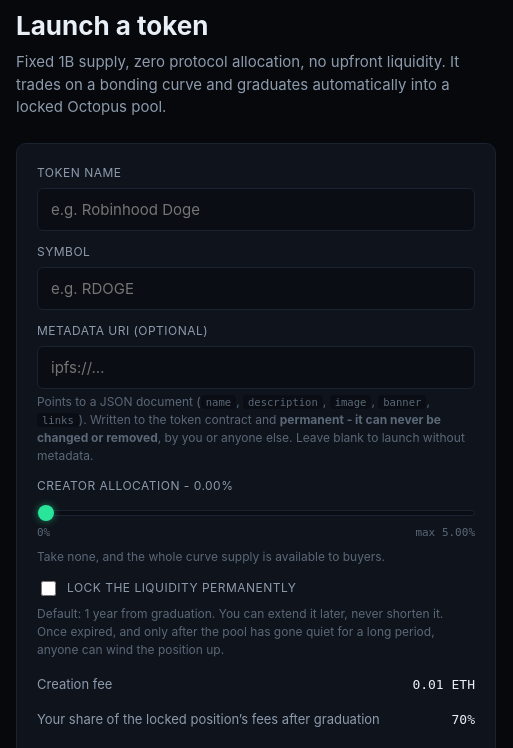
Test case: CreatePage guards what cannot be undone › tells the creator the allocation only releases at graduation
Set the slider labelled "Creator allocation - 0.00%" to "500". click: [467, 513]
box: [37,503,475,523]
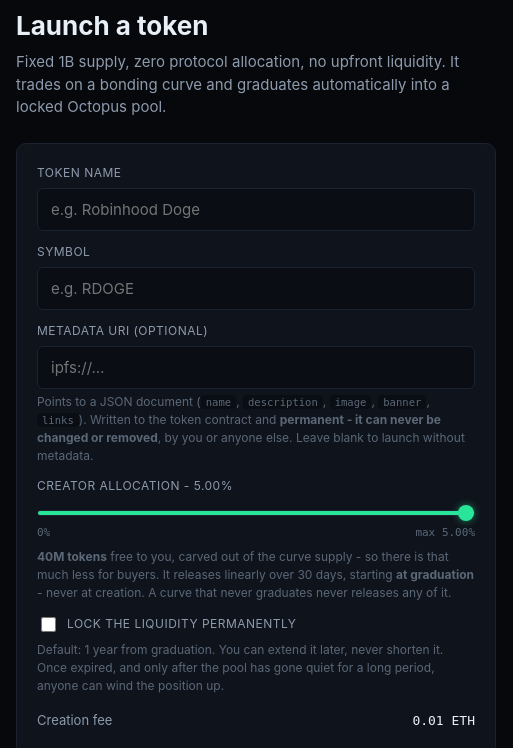
expect the text "at graduation" is shown: met, box [396,567,474,582]
expect the text "never graduates" is shown: met, box [37,585,451,600]
